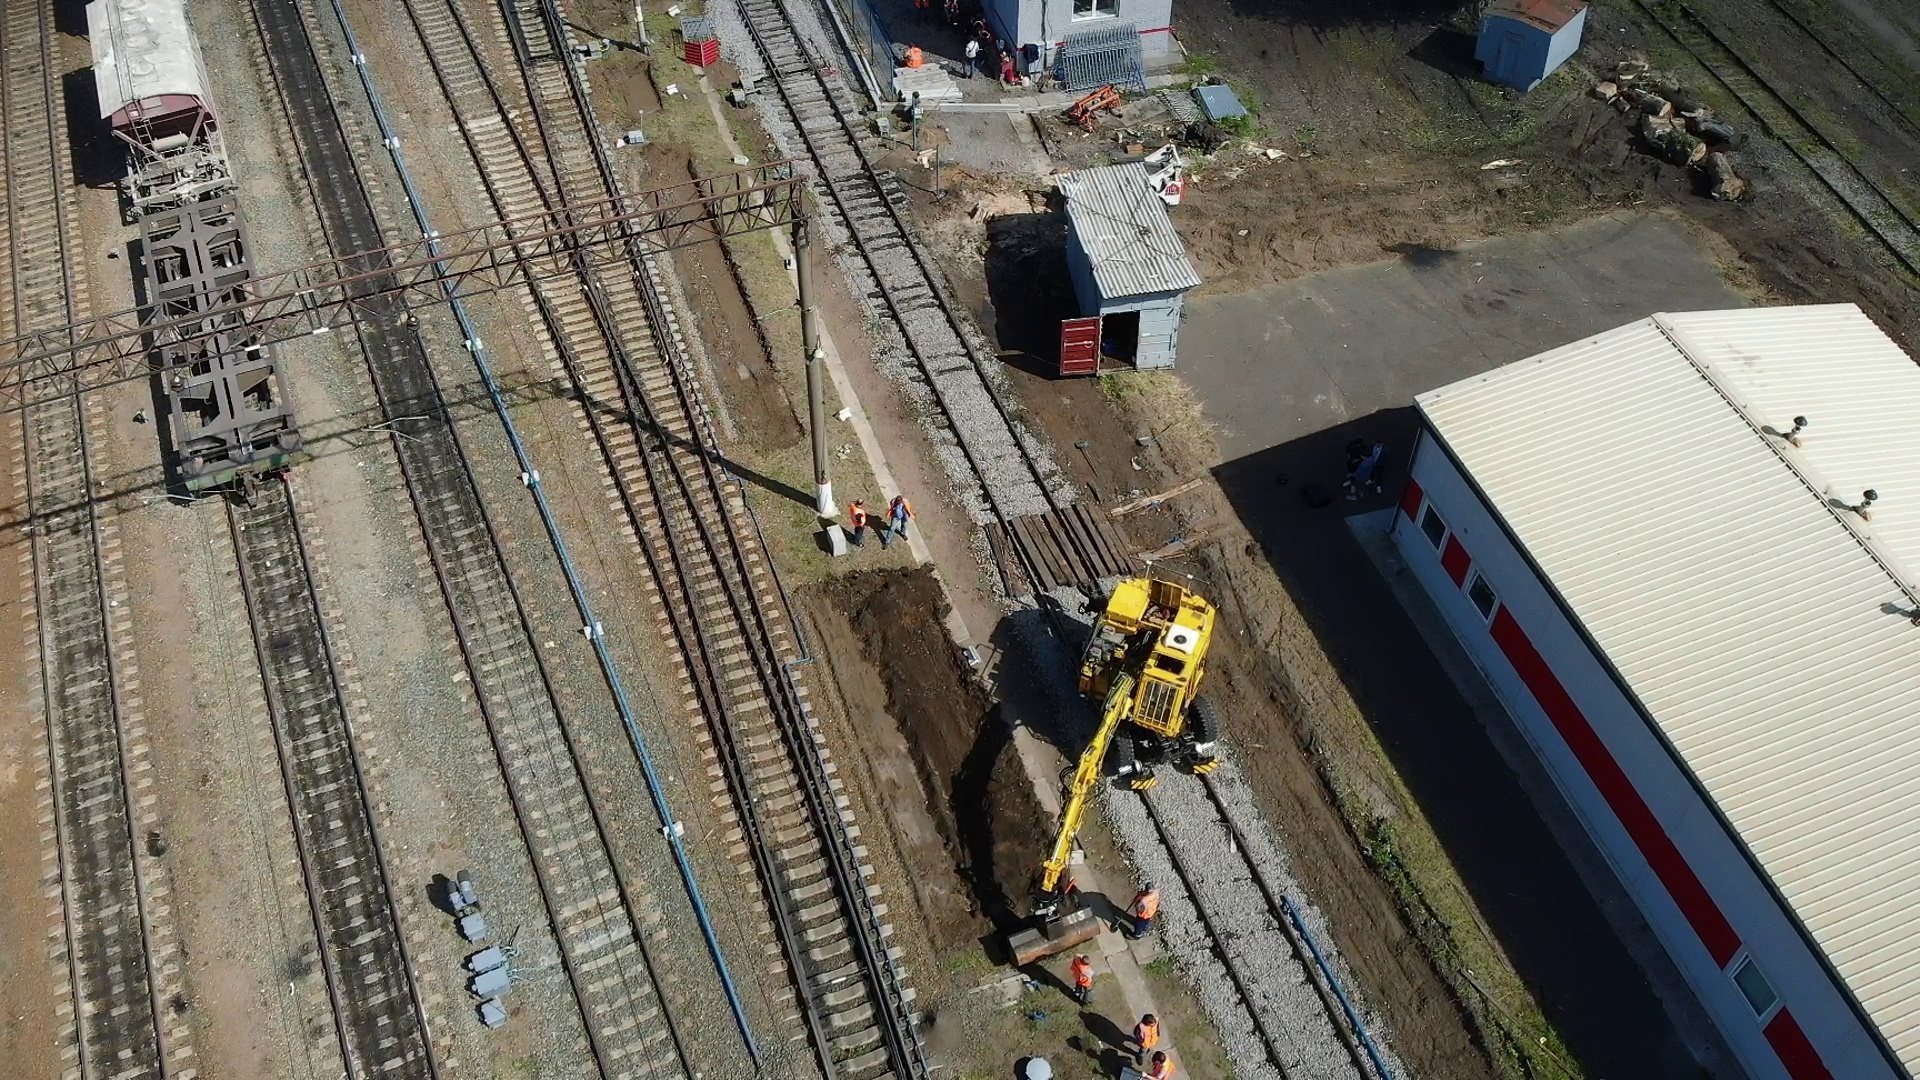kjtv: (1063, 565, 1221, 791)
